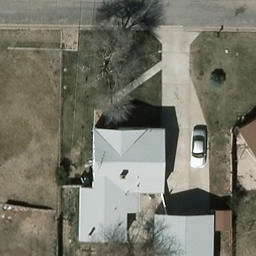car: (189, 126, 210, 171)
